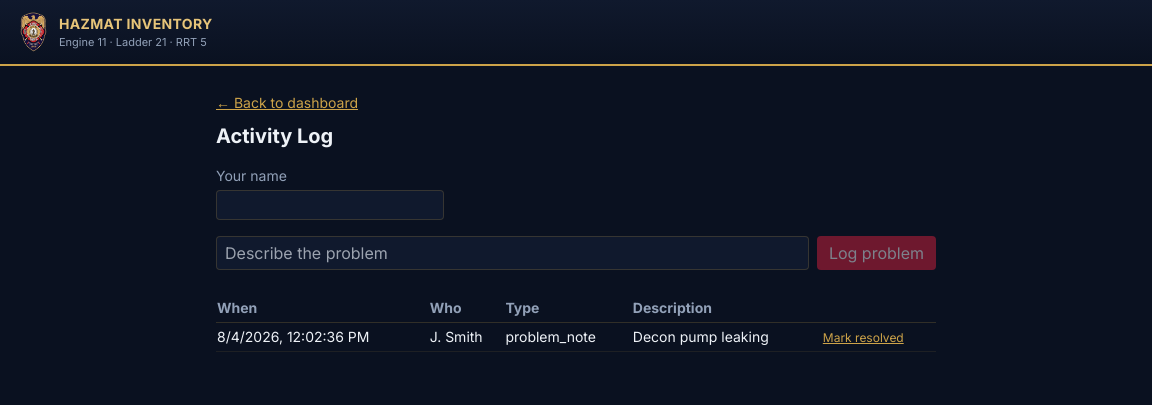
Test: LogPage › shows an error and does not refetch when resolving a problem note fails
The image size is (1152, 405).
Click the button "Mark resolved" at (863, 338), box x1=823 y1=330 x2=904 y2=346
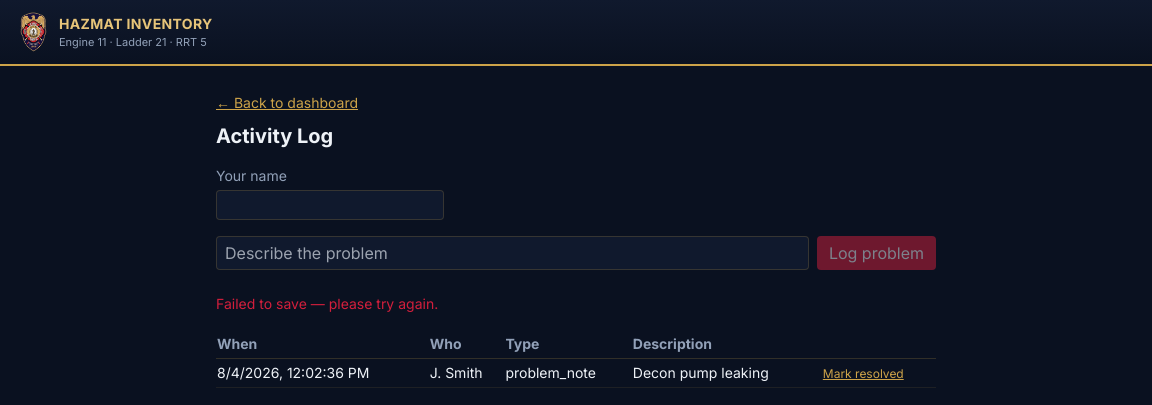
Check: the text "Failed to save — please try again." is shown, box x1=216 y1=295 x2=438 y2=312
